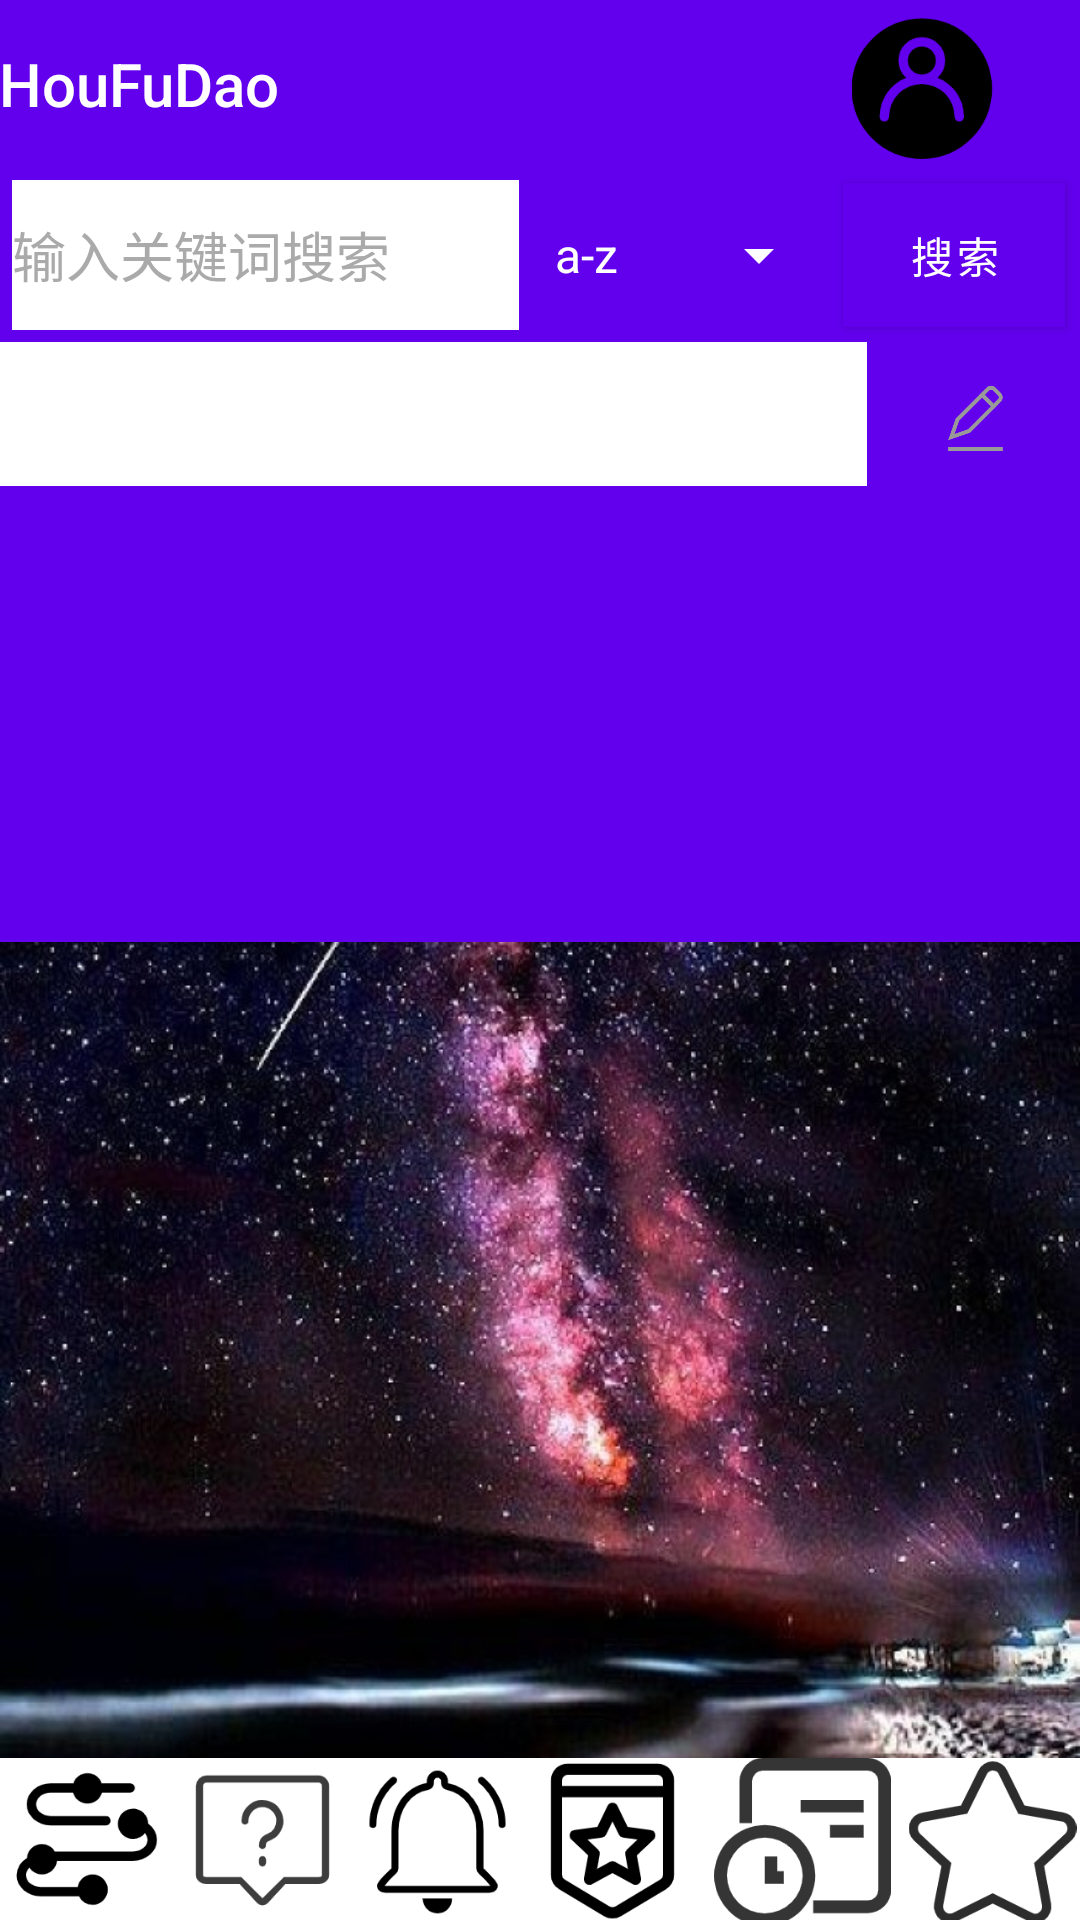

Point at icon controls on the screen. Image size 1080 x 1920, points as (x=x, y=y).
ask: (x=262, y=1840)
collection: (x=993, y=1840)
connection: (x=86, y=1839)
edit: (x=975, y=418)
history: (x=802, y=1839)
message: (x=437, y=1842)
user: (x=922, y=88)
